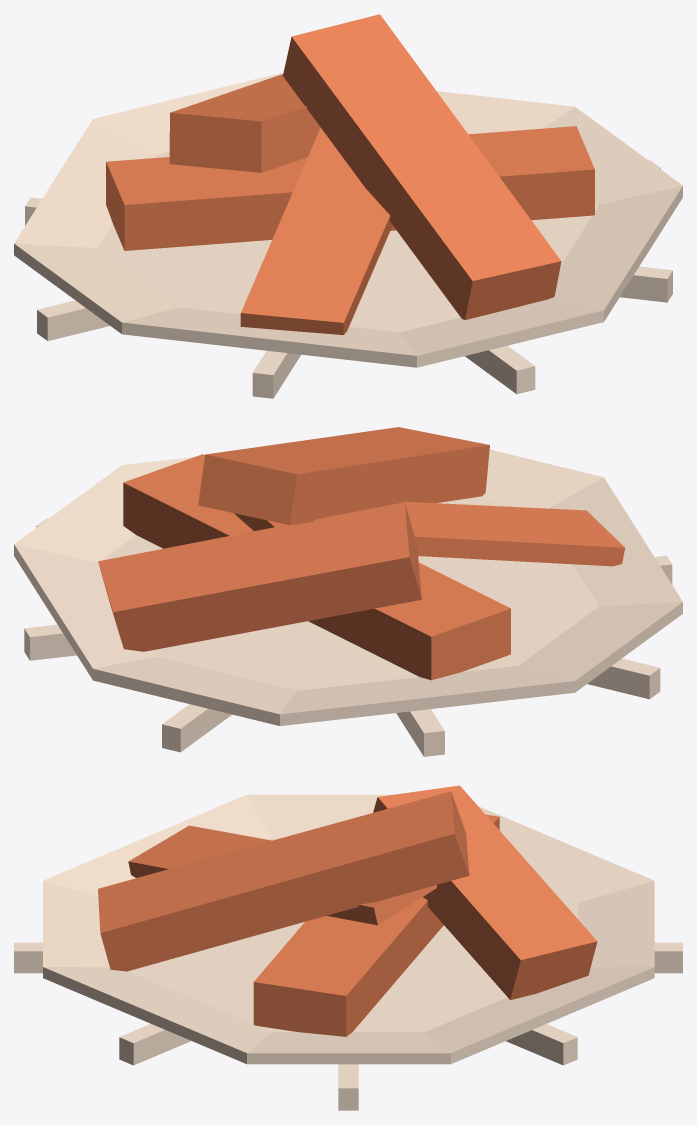
Rendered from BonFire.fbx.
The picture shows the model from 3 angles, top to bottom: view 1: azimuth 30°, elevation 25°; view 2: azimuth 150°, elevation 25°; view 3: azimuth 270°, elevation 25°; orthographic projection. The views are drawn at different scales.
Parts seen in each view (by area): view 1: Bonfire_Base, Bonfire_Log4, Bonfire_Log1, Bonfire_Log2, Bonfire_Log3; view 2: Bonfire_Base, Bonfire_Log3, Bonfire_Log4, Bonfire_Log1, Bonfire_Log2; view 3: Bonfire_Base, Bonfire_Log4, Bonfire_Log3, Bonfire_Log1, Bonfire_Log2.
Part boxes in pixels (x1,y1,x2,y2): Bonfire_Base: (14,73,682,398); Bonfire_Log4: (283,14,561,319); Bonfire_Log1: (106,126,594,250); Bonfire_Log2: (240,128,392,334); Bonfire_Log3: (169,74,320,172); Bonfire_Base: (14,449,682,756); Bonfire_Log3: (98,502,421,651); Bonfire_Log4: (198,427,489,525); Bonfire_Log1: (123,454,510,680); Bonfire_Log2: (234,501,624,566); Bonfire_Base: (14,794,682,1110); Bonfire_Log4: (98,791,469,971); Bonfire_Log3: (373,785,597,999); Bonfire_Log1: (253,814,499,1036); Bonfire_Log2: (128,825,436,925).
Size of the model in its own units: 0.68 by 0.1979 by 0.68.
